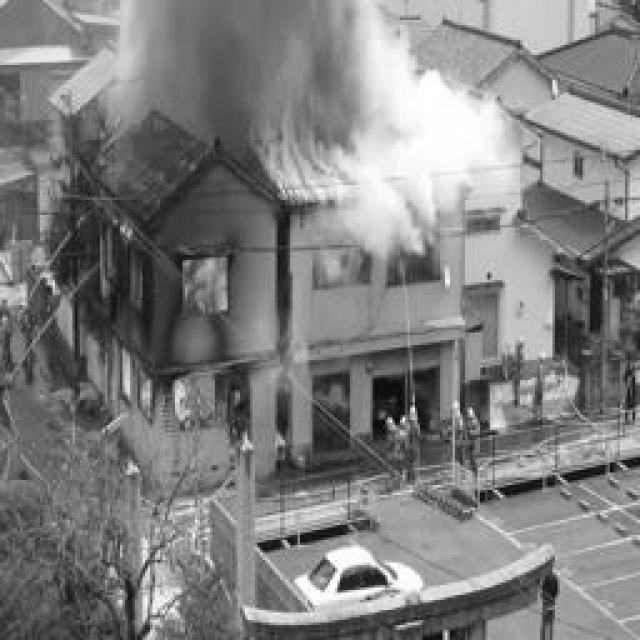Fire: (96, 217, 312, 480)
